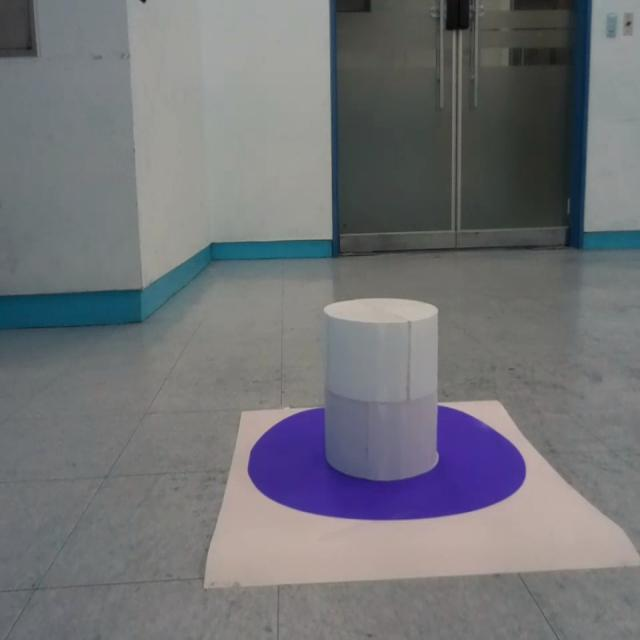cylinder: (320, 298, 440, 482)
